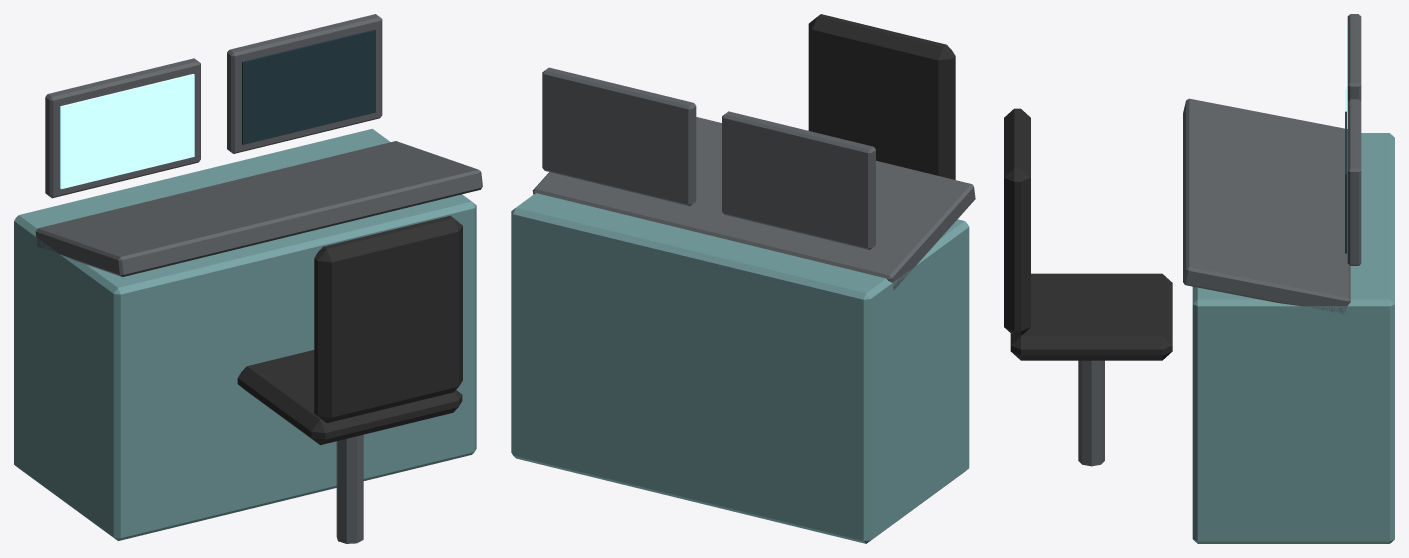
File: crew_station.glb
The picture shows the model from 3 angles, left to right: view 1: azimuth 30°, elevation 25°; view 2: azimuth 150°, elevation 25°; view 3: azimuth 270°, elevation 25°; orthographic projection. The views are drawn at different scales.
Parts seen in each view (by area): view 1: crew_station; view 2: crew_station; view 3: crew_station.
Part boxes in pixels (x1,y1,x2,y2): crew_station: (14,14,482,543); crew_station: (511,14,975,543); crew_station: (1004,14,1394,543).
Size of the model in its own units: 1.2 by 1.21 by 1.16.
